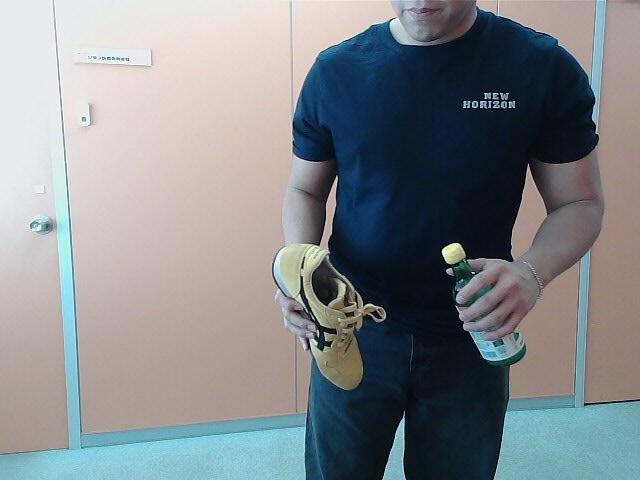Lemon_sapporo: (442, 242, 526, 370)
Shoes: (274, 244, 366, 390)
